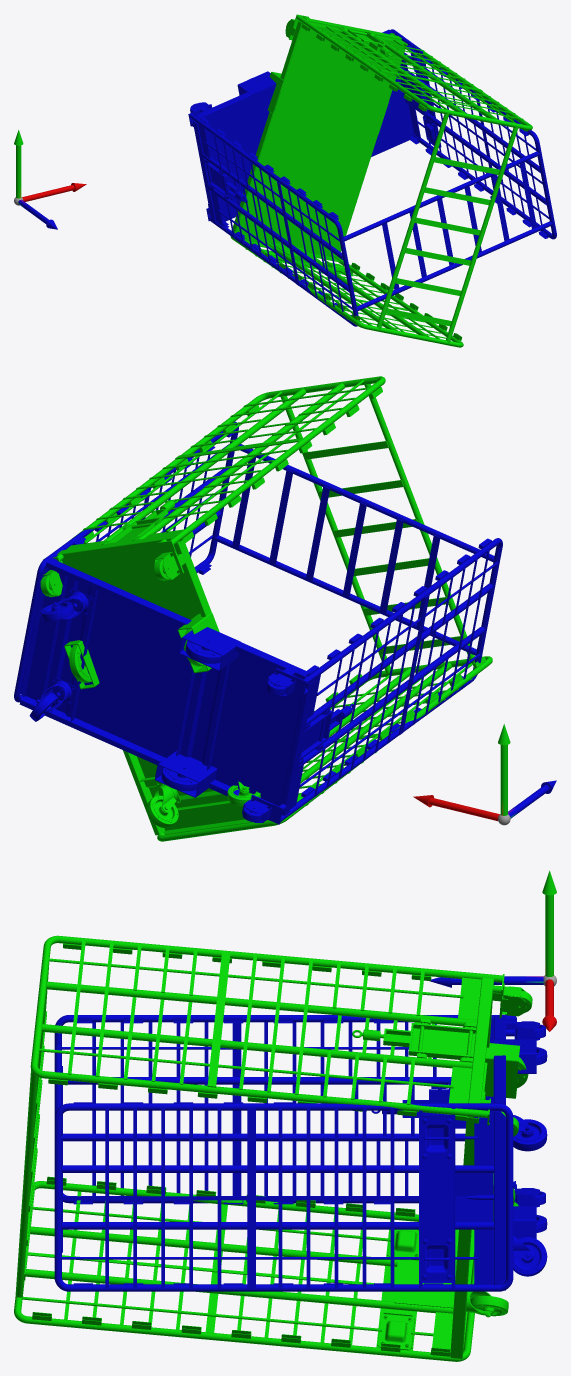
File: combined_scene_sample_1453.glb
The picture shows the model from 3 angles, top to bottom: view 1: azimuth 30°, elevation 25°; view 2: azimuth 150°, elevation 25°; view 3: azimuth 270°, elevation 25°; orthographic projection. The views are drawn at different scales.
Parts seen in each view (by area): view 1: pred, gt, frame; view 2: gt, pred, frame; view 3: pred, gt, frame.
Part boxes in pixels (x1=…): pred: x1=230, y1=14, x2=532, y2=347; gt: x1=188, y1=29, x2=556, y2=326; frame: x1=14, y1=130, x2=86, y2=229; gt: x1=14, y1=421, x2=502, y2=824; pred: x1=40, y1=376, x2=492, y2=841; frame: x1=413, y1=724, x2=556, y2=825; pred: x1=14, y1=935, x2=532, y2=1361; gt: x1=54, y1=1015, x2=547, y2=1291; frame: x1=429, y1=870, x2=556, y2=1031.
Bounding box in the file's own units: 2.82 × 1.8 × 2.22.
